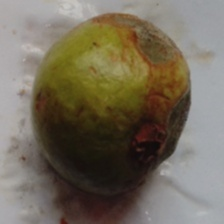guava: (43, 28, 221, 182)
